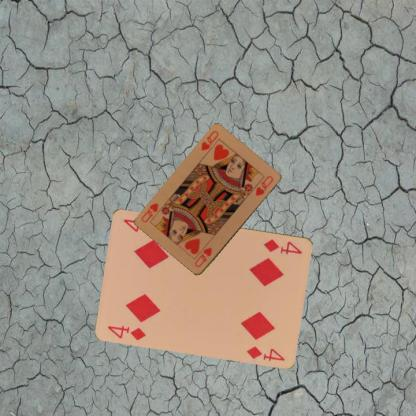4d: (261, 236, 303, 256), (105, 323, 148, 342)
Qh: (198, 128, 220, 152), (192, 245, 213, 269)
